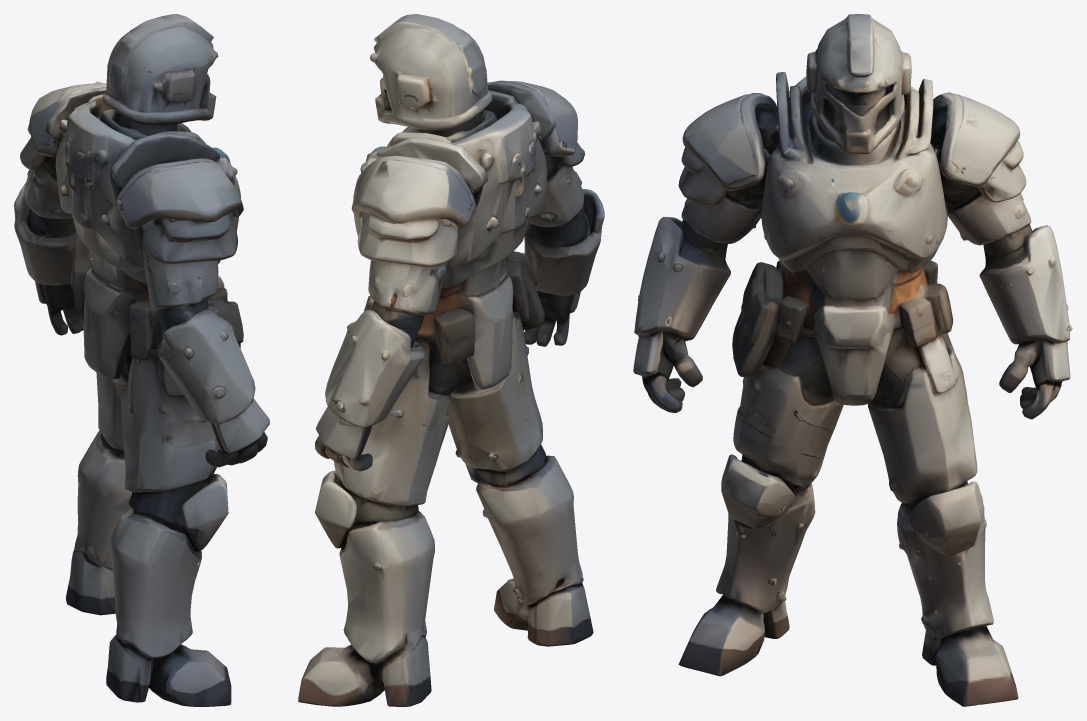
Rendered from npc-guard.glb.
3 renders of one model, left to right at view 1: azimuth 30°, elevation 25°; view 2: azimuth 150°, elevation 25°; view 3: azimuth 270°, elevation 25°, orthographic. The views are drawn at different scales.
Parts seen in each view (by area): view 1: tripo_node_a7885f66-8195-49a2-a576-50839f38def1; view 2: tripo_node_a7885f66-8195-49a2-a576-50839f38def1; view 3: tripo_node_a7885f66-8195-49a2-a576-50839f38def1.
Part boxes in pixels (x1,y1,x2,y2): tripo_node_a7885f66-8195-49a2-a576-50839f38def1: (14,14,269,706); tripo_node_a7885f66-8195-49a2-a576-50839f38def1: (298,14,604,706); tripo_node_a7885f66-8195-49a2-a576-50839f38def1: (633,14,1072,706).
Bounding box in the file's own units: 0.5127 × 1.8 × 1.1.
Materials: 1 (1 with a texture image).
